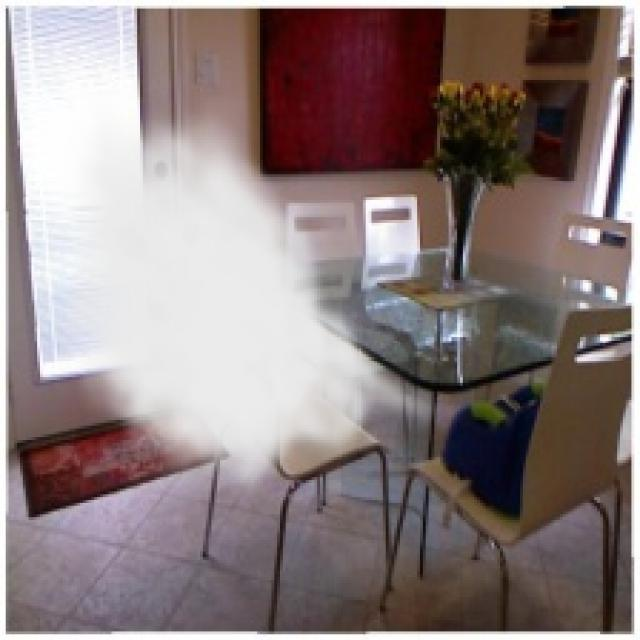smoke: (51, 91, 446, 503)
